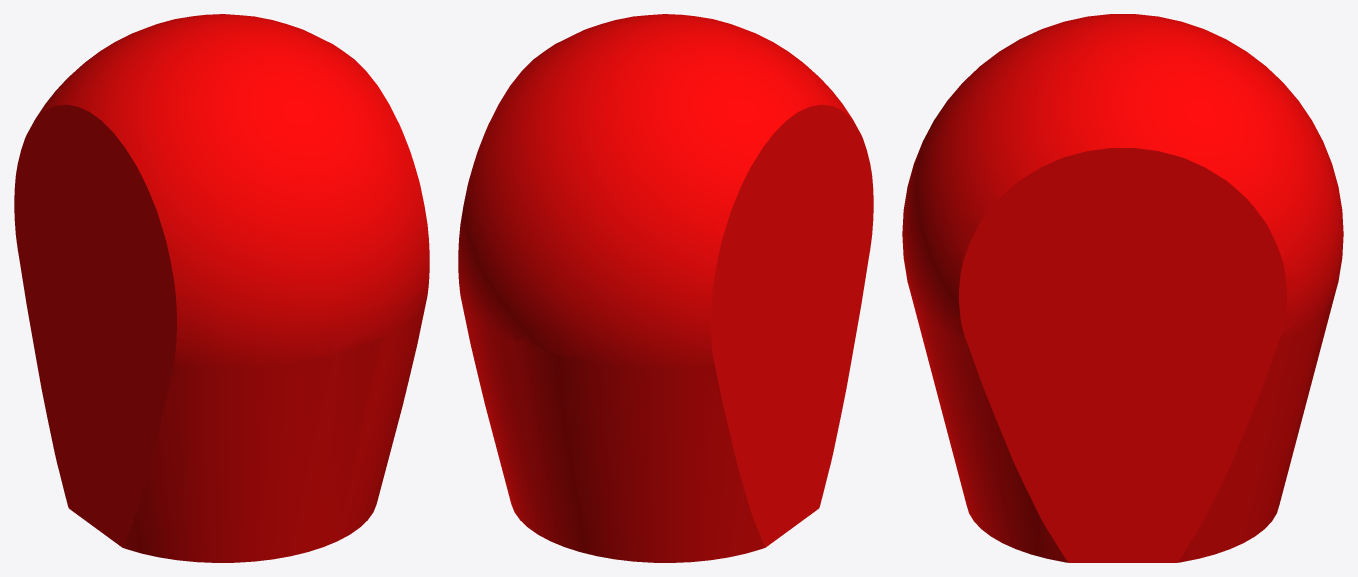
File: foot.dae
The picture shows the model from 3 angles, left to right: view 1: azimuth 30°, elevation 25°; view 2: azimuth 150°, elevation 25°; view 3: azimuth 270°, elevation 25°; orthographic projection.
Size of the model in its own units: 0.04 by 0.0699 by 0.06.
